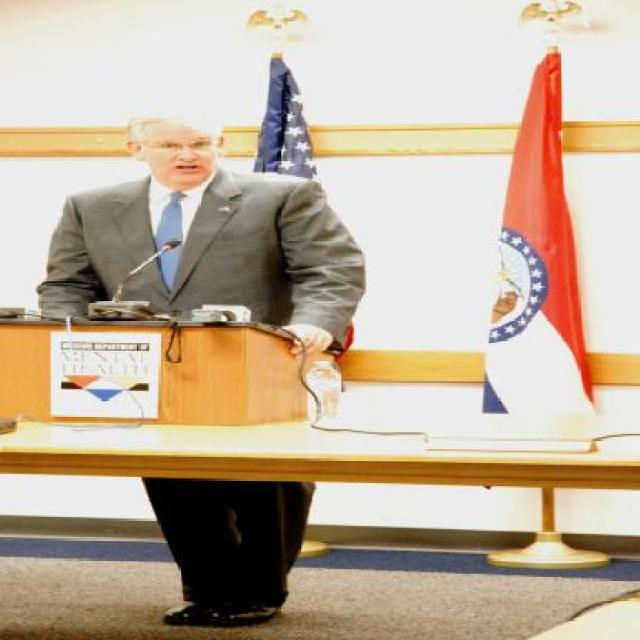obstacle: (36, 110, 376, 618)
